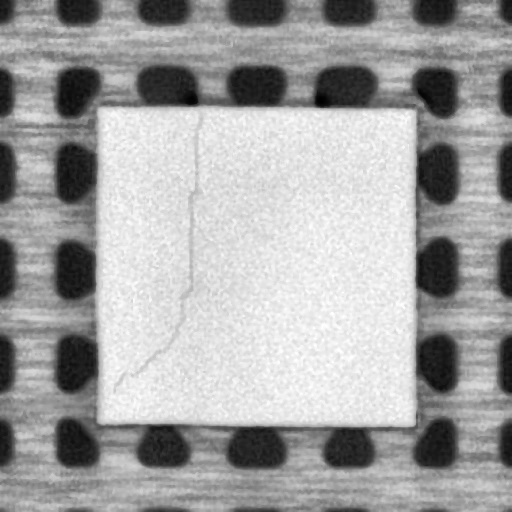DIE_CRACK: (111, 112, 205, 388)
